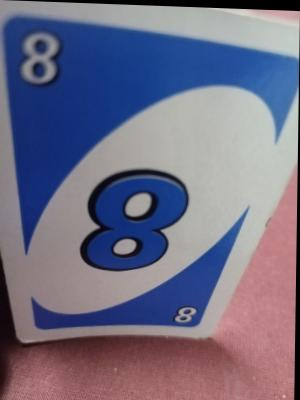blue: (8, 17, 220, 325)
num_8: (14, 25, 70, 91), (172, 298, 205, 330)
